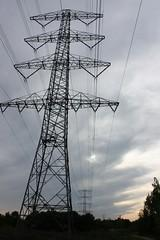power_tower: (11, 3, 119, 224)
